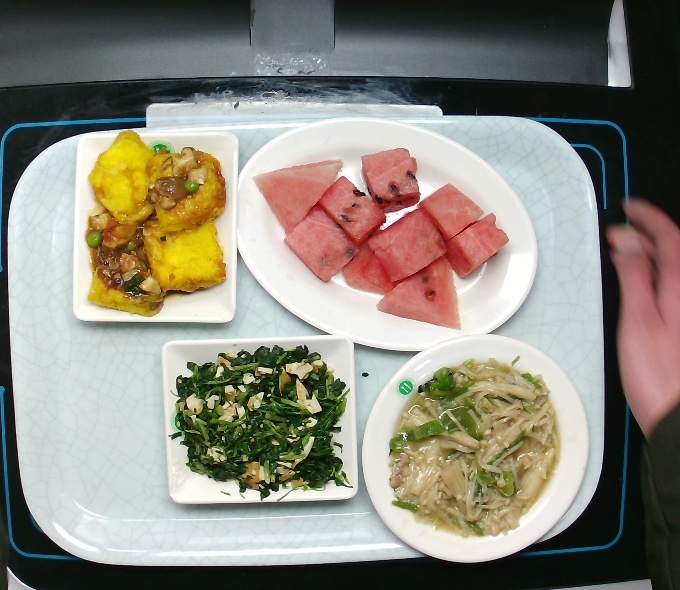wcq-CuiPiDouFu: (82, 126, 231, 318)
wcq-JinZhenGu: (383, 352, 566, 542)
wcq-MaLanTouChaoDouGan: (167, 339, 358, 504)
wcq-XiGua: (249, 143, 513, 333)
